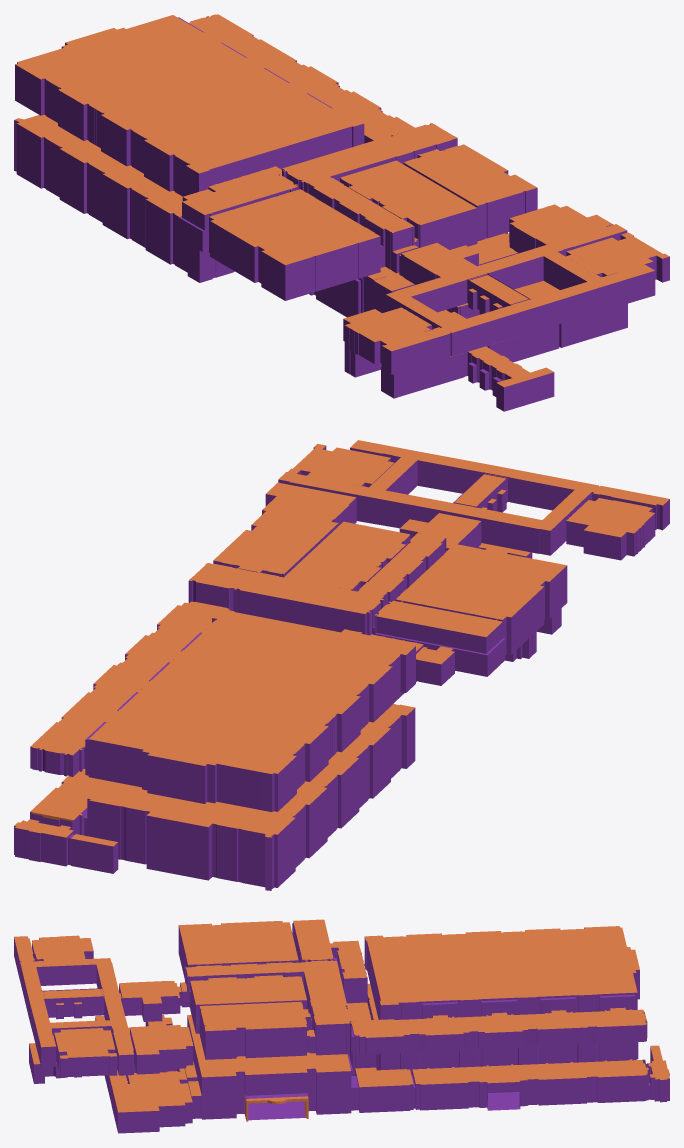
File: bj_beiyuandajiudian_indoor.FBX
The picture shows the model from 3 angles, top to bottom: view 1: azimuth 30°, elevation 25°; view 2: azimuth 150°, elevation 25°; view 3: azimuth 270°, elevation 25°; orthographic projection. The views are drawn at different scales.
Visible parts, largest first — view 1: beiyuan_01_f3_ding, beiyuan_01_f3, beiyuan_01_f1, beiyuan_01_f1_ding; view 2: beiyuan_01_f3_ding, beiyuan_01_f3, beiyuan_01_f1, beiyuan_01_f1_ding; view 3: beiyuan_01_f3_ding, beiyuan_01_f3, beiyuan_01_f1, beiyuan_01_f1_ding.
Part boxes in pixels (left/top/right/bottom): beiyuan_01_f3_ding: left=15, top=14, right=669, bottom=351; beiyuan_01_f3: left=15, top=17, right=669, bottom=374; beiyuan_01_f1: left=14, top=120, right=627, bottom=411; beiyuan_01_f1_ding: left=14, top=114, right=559, bottom=387; beiyuan_01_f3_ding: left=30, top=440, right=669, bottom=773; beiyuan_01_f3: left=30, top=446, right=669, bottom=811; beiyuan_01_f1: left=14, top=547, right=561, bottom=890; beiyuan_01_f1_ding: left=14, top=543, right=530, bottom=846; beiyuan_01_f3_ding: left=14, top=919, right=647, bottom=1058; beiyuan_01_f3: left=14, top=922, right=647, bottom=1077; beiyuan_01_f1: left=29, top=995, right=669, bottom=1133; beiyuan_01_f1_ding: left=29, top=983, right=669, bottom=1112.
Bounding box in the file's own units: 46.05 × 99.17 × 15.16.
